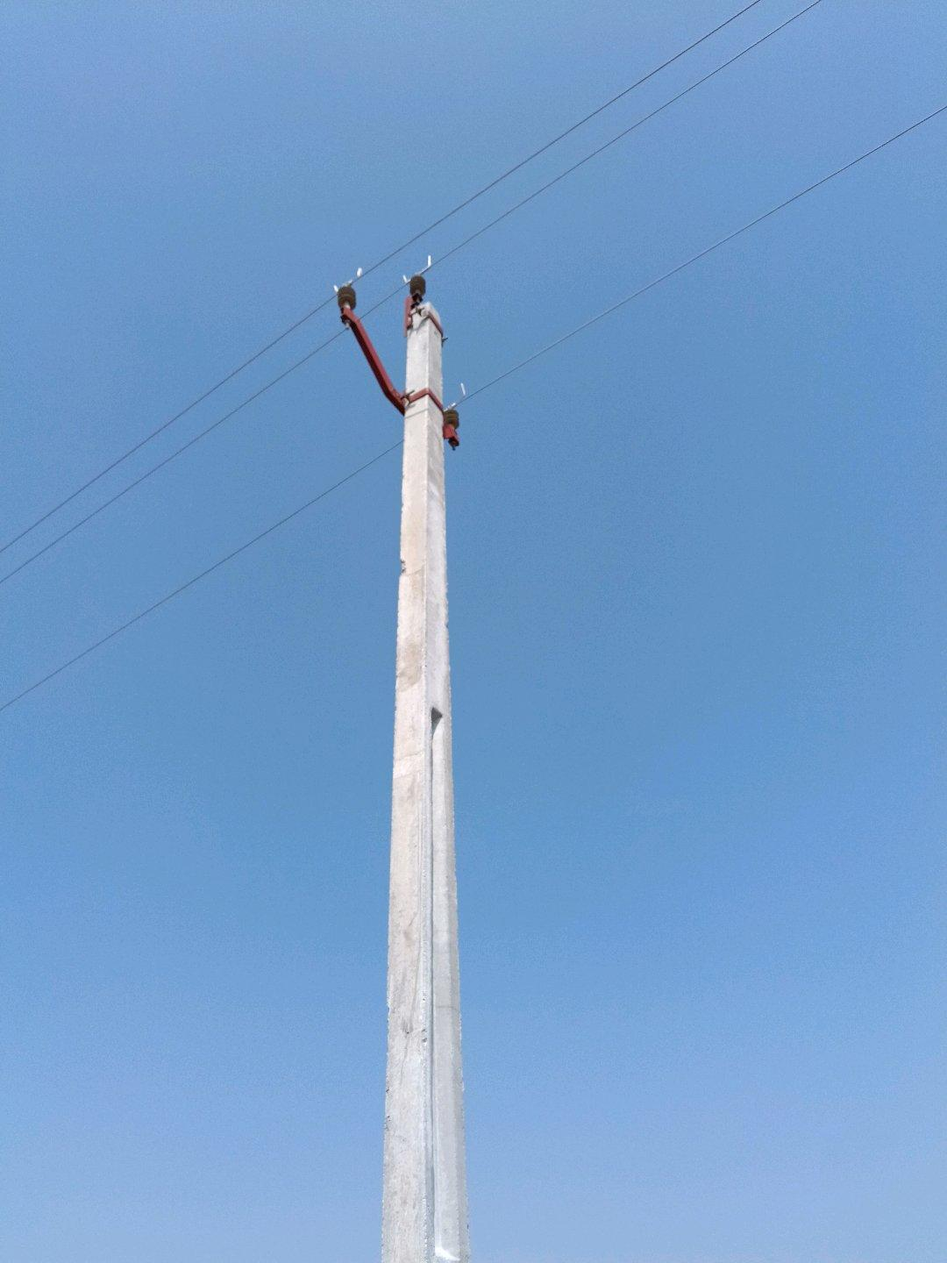{"0" "insulator", "1" "pole", "2" "crossarm", "3" "conductor", "4" "street_: (336, 275, 468, 1262), (234, 509, 303, 555), (509, 176, 566, 215), (444, 235, 479, 260), (485, 213, 509, 231), (486, 376, 508, 388), (306, 498, 320, 507), (337, 479, 349, 487), (321, 490, 330, 497), (367, 460, 375, 467), (501, 175, 508, 182), (413, 238, 422, 243), (352, 470, 359, 476), (470, 197, 478, 201), (15, 697, 18, 703), (426, 261, 429, 267), (443, 218, 448, 221), (519, 364, 523, 367)
